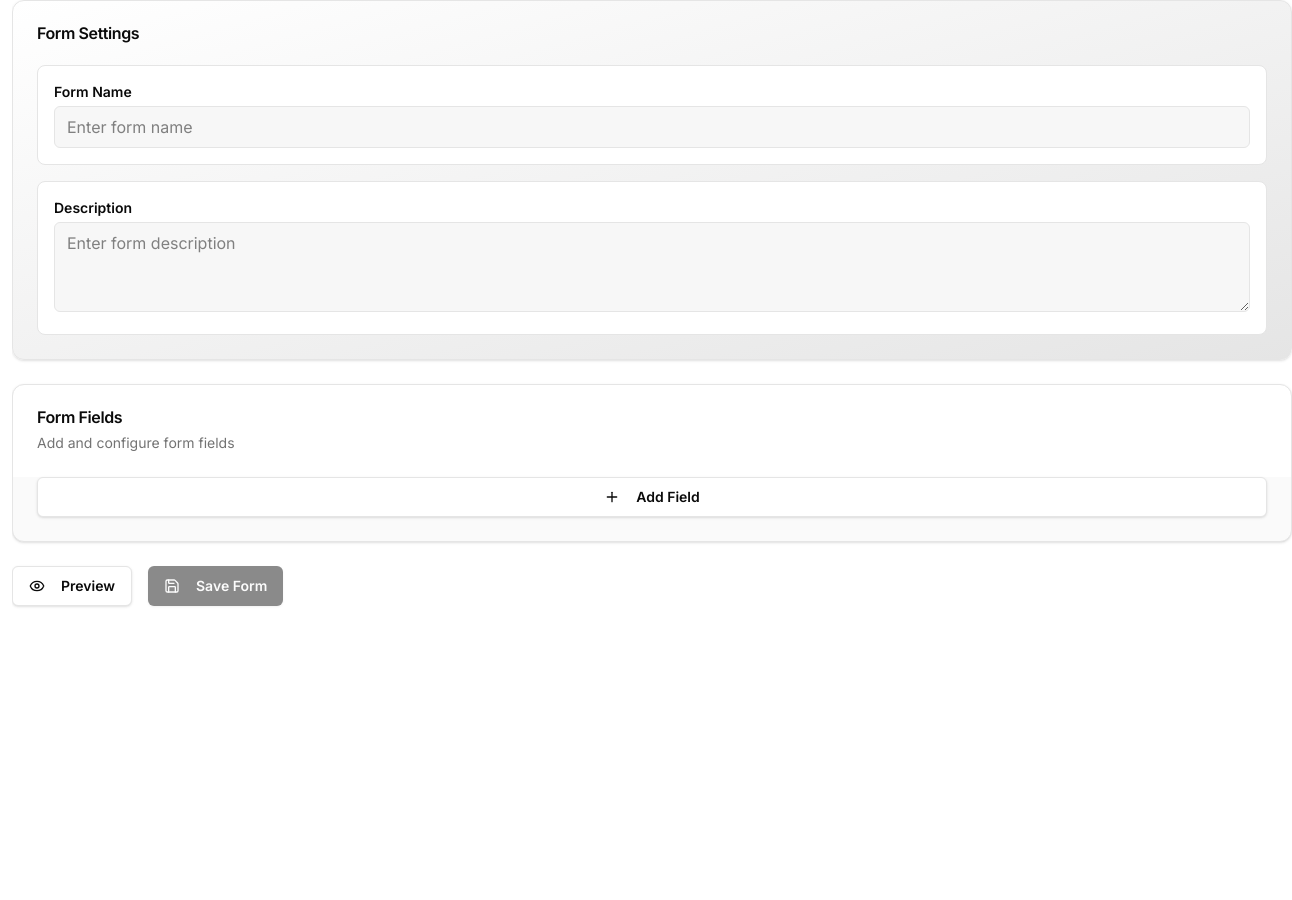
Test: FormBuilderUI › Field Management › changes field type
Note: Add a field
Click the button "Add Field".
click(652, 497)  # box [37,477,1267,517]
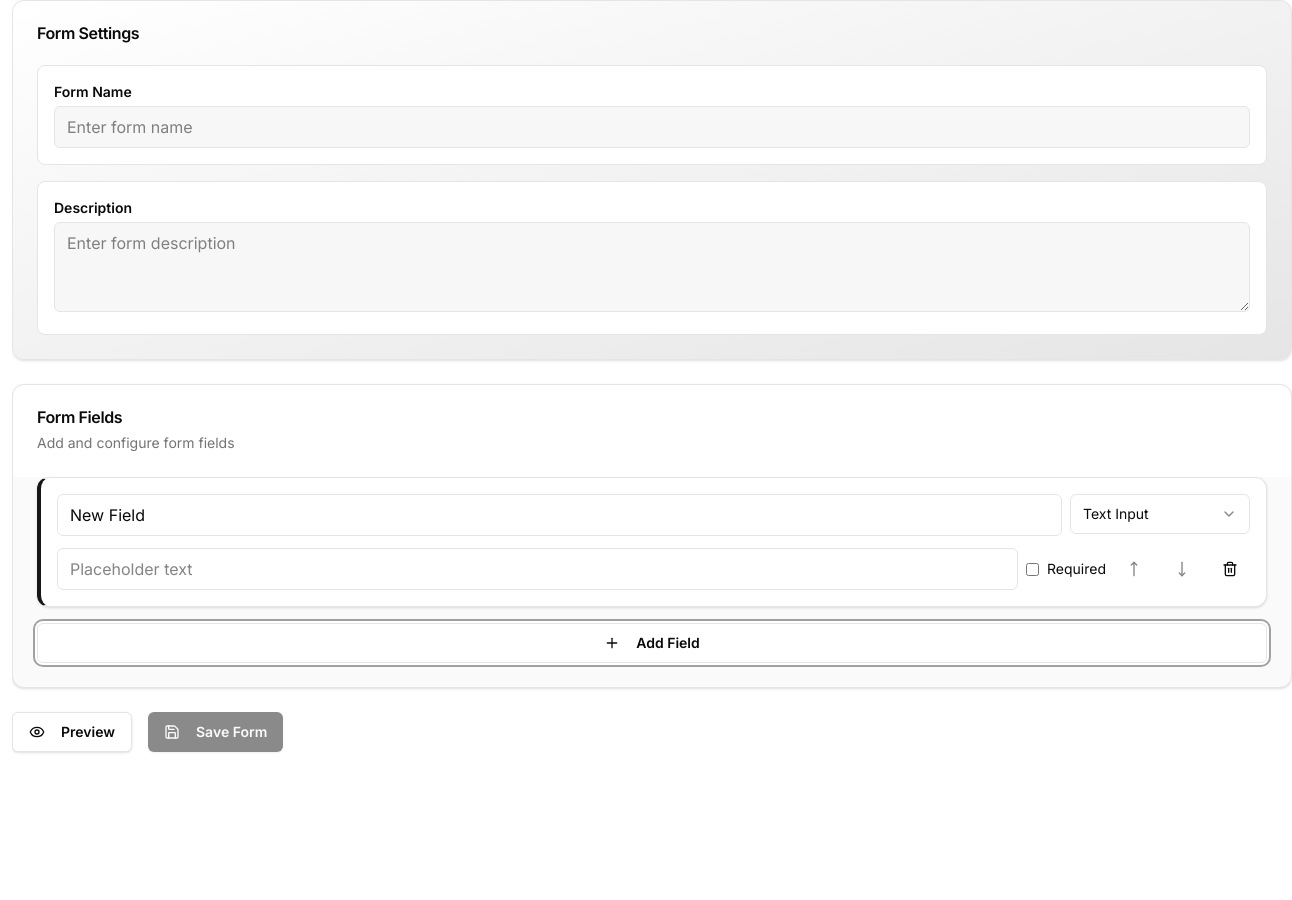
expect the dropdown reads "Text Input": met
Note: Click to open the dropdown
Click the dropdown.
click(1160, 514)  # box [1070,494,1250,534]
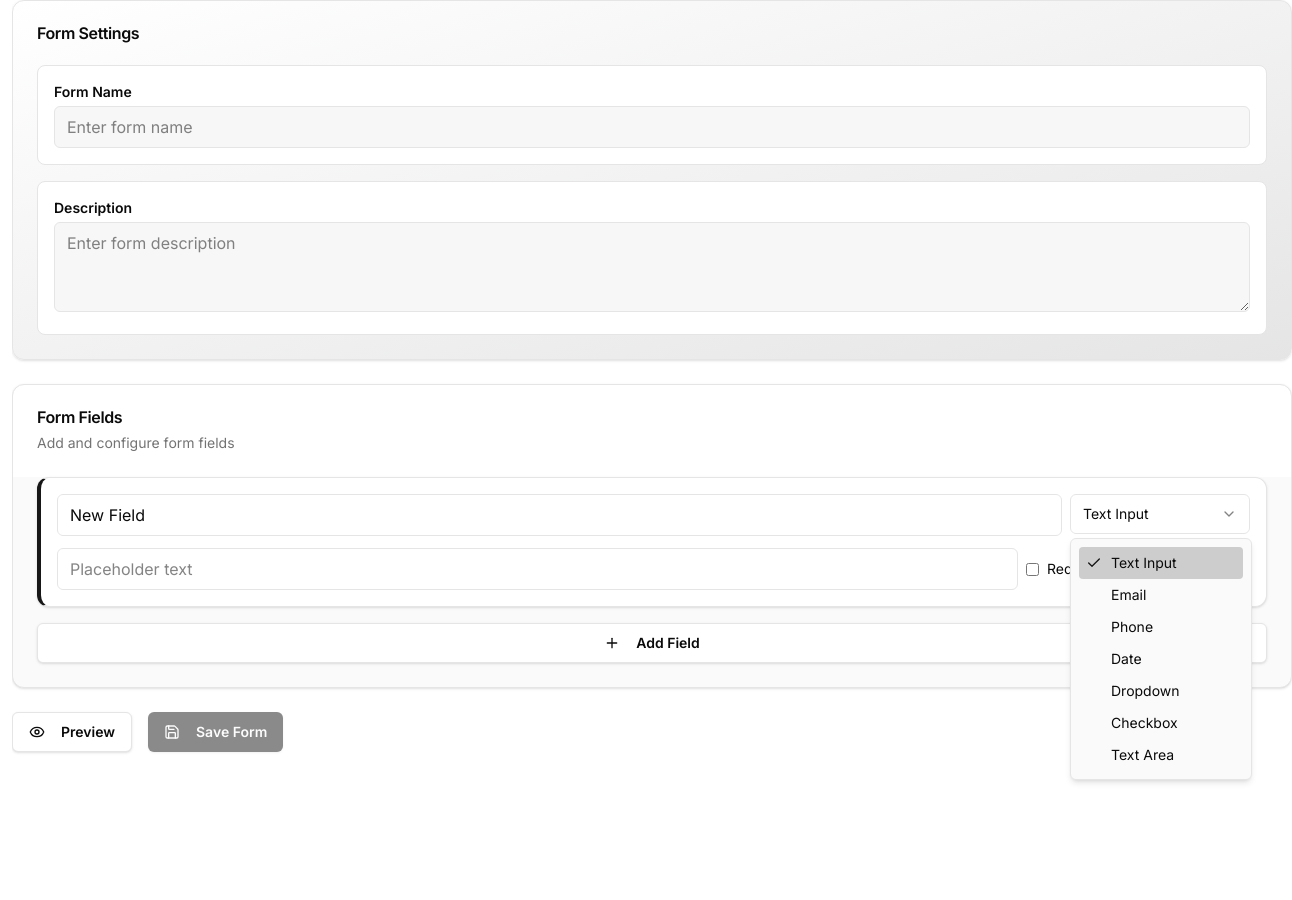
Note: Wait for the dropdown to be rendered and click on Email option
Click the option "Email".
click(1129, 594)  # box [1111,586,1146,603]
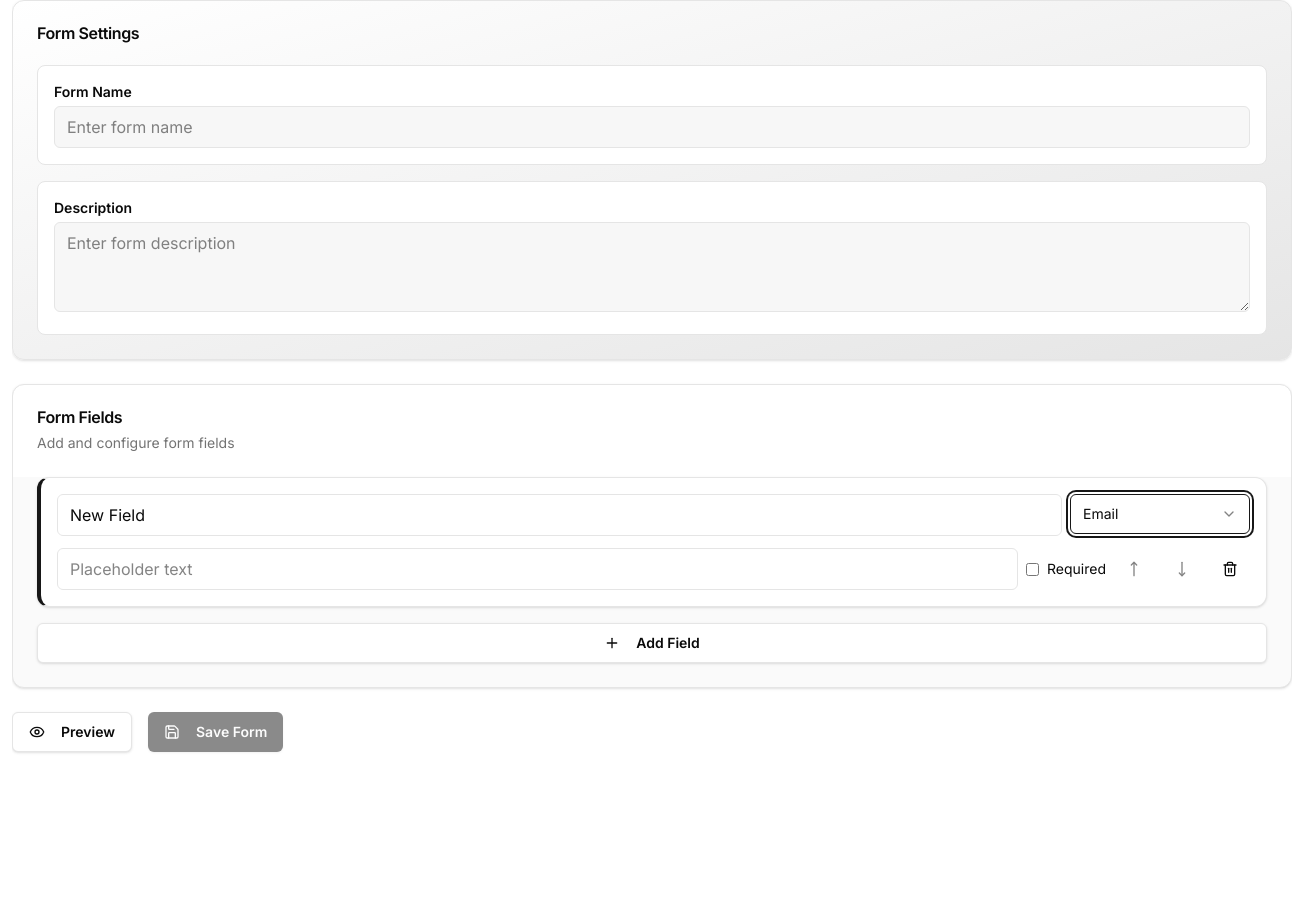
expect the dropdown reads "Email": met, box [1070,494,1250,534]
